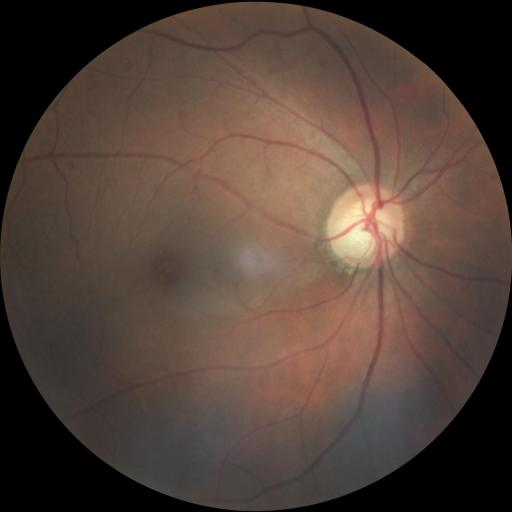Optic Cup: (344, 200, 393, 252)
Optic Disc: (326, 184, 406, 266)
